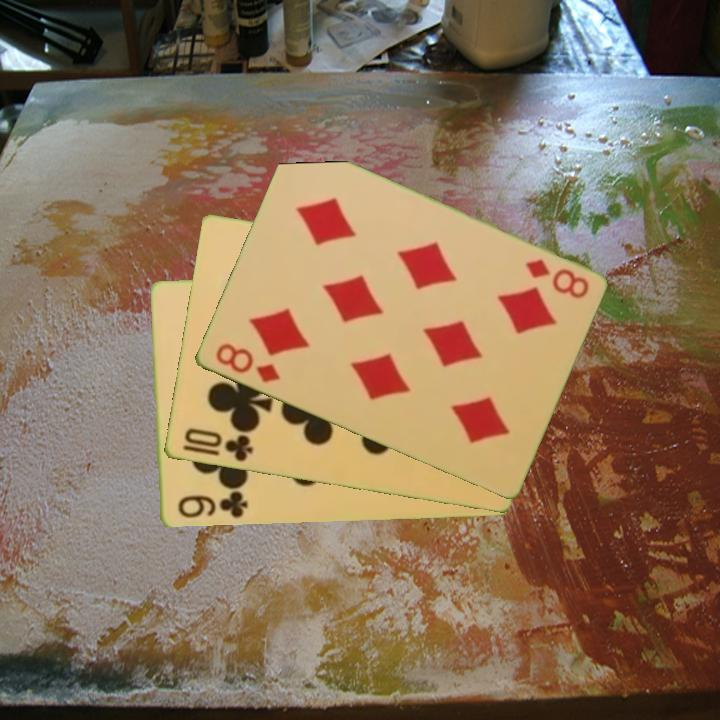10c: (180, 425, 256, 465)
8d: (211, 339, 283, 386), (521, 255, 592, 302)
9c: (174, 488, 250, 522)
